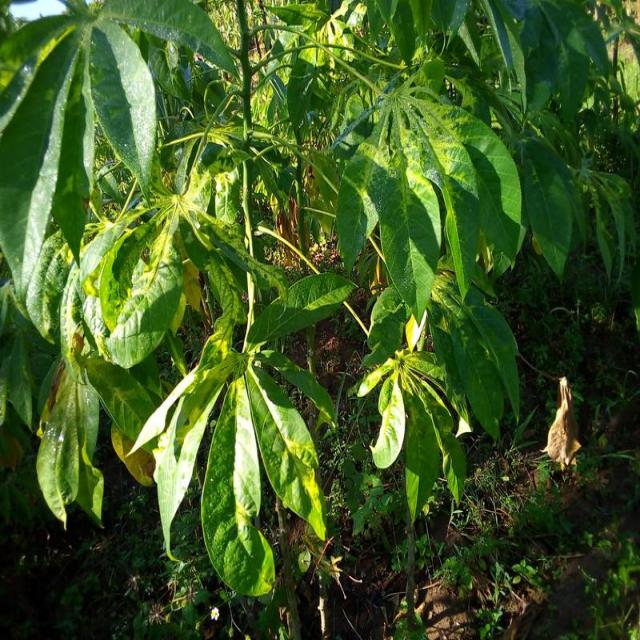cassava leaf: (1, 1, 630, 601)
